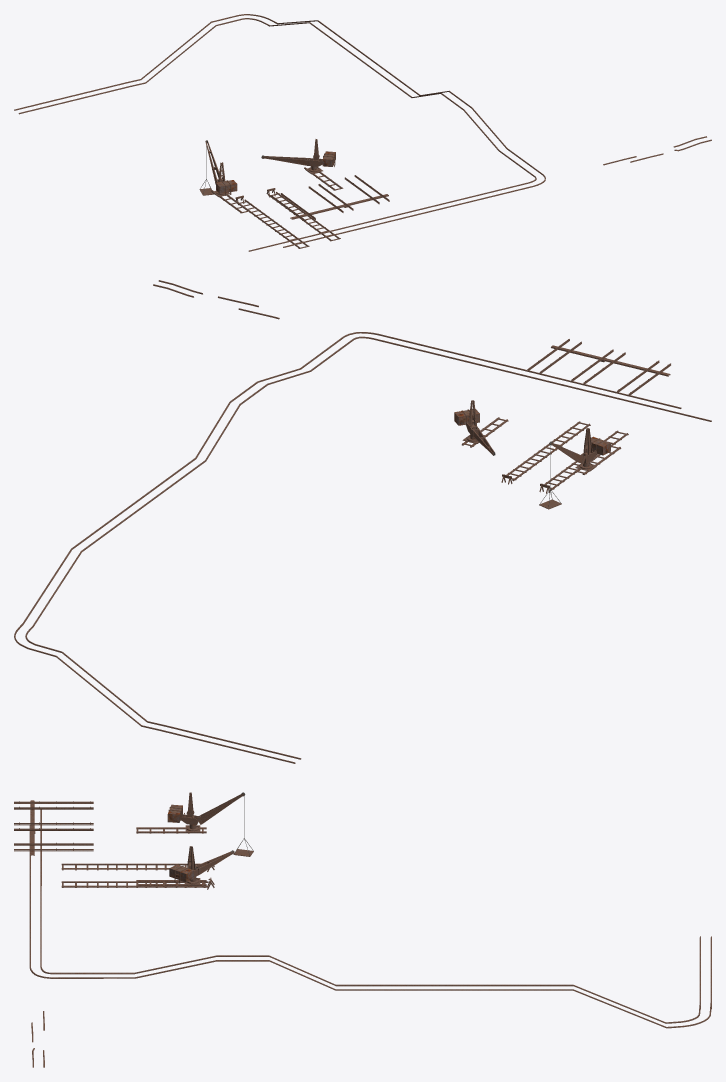
Rendered from SM_Scene_A_Metal00.fbx.
3 views of the same model, one above another, from view 1: azimuth 30°, elevation 25°; view 2: azimuth 150°, elevation 25°; view 3: azimuth 270°, elevation 25° (orthographic). The views are drawn at different scales.
Parts seen in each view (by area): view 1: SM_Scene_A_Metal00; view 2: SM_Scene_A_Metal00; view 3: SM_Scene_A_Metal00.
Boxes of the visible parts, x1,y1,x2,y2 form: SM_Scene_A_Metal00: (14, 14, 711, 251); SM_Scene_A_Metal00: (14, 280, 711, 763); SM_Scene_A_Metal00: (14, 792, 711, 1067).
Size of the model in its own units: 21195 by 5311 by 24051.
